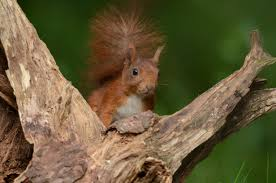Ardilla: (87, 38, 174, 125)
